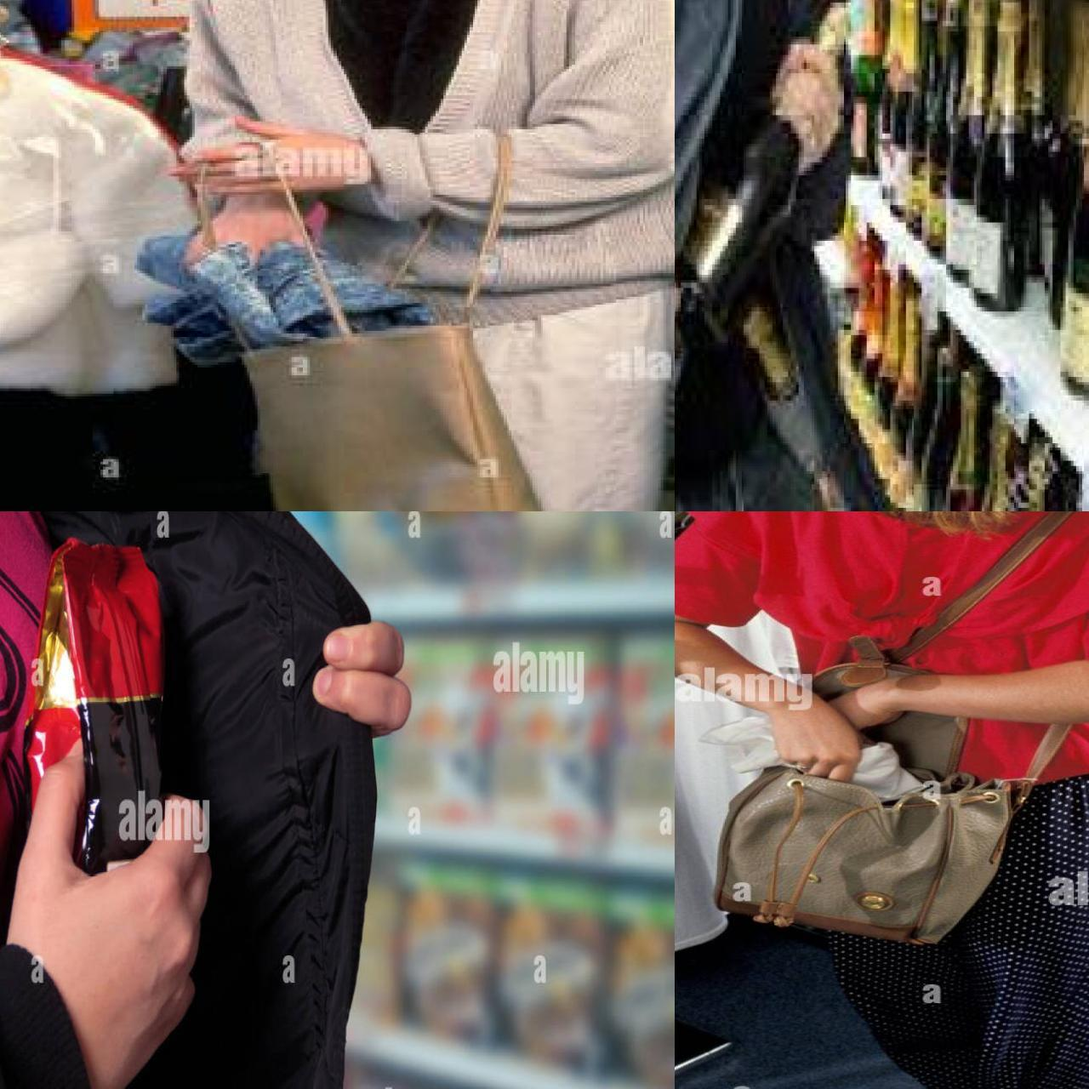shoplifting: (0, 508, 417, 1086), (94, 111, 577, 499), (691, 605, 1066, 991)
